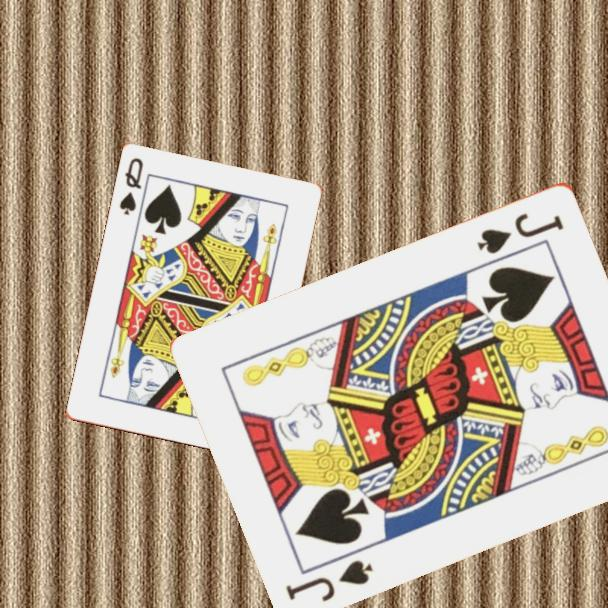s11: (473, 208, 567, 257), (282, 555, 376, 604)
s12: (116, 155, 146, 219)
